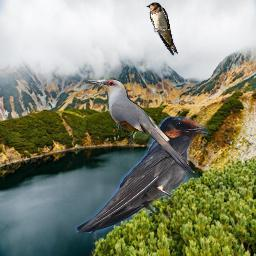Cuckoo: (85, 78, 196, 176)
Swallow: (75, 116, 208, 233), (146, 2, 178, 56)
